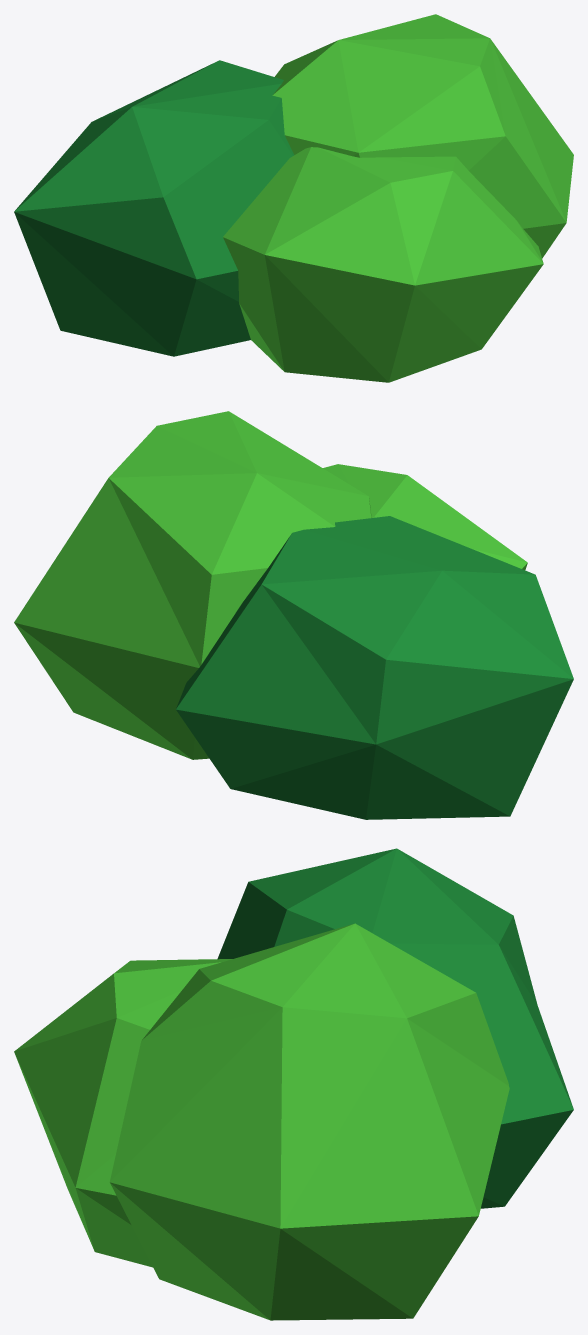
File: bush_flat.fbx
3 renders of one model, top to bottom at view 1: azimuth 30°, elevation 25°; view 2: azimuth 150°, elevation 25°; view 3: azimuth 270°, elevation 25°, orthographic. The views are drawn at different scales.
Visible parts, largest first — view 1: bush_flat; view 2: bush_flat; view 3: bush_flat.
Boxes of the visible parts, <box> form: bush_flat: <box>14,14,573,382</box>; bush_flat: <box>14,411,573,819</box>; bush_flat: <box>14,848,573,1320</box>.
Size of the model in its own units: 2 by 0.9 by 1.5.
